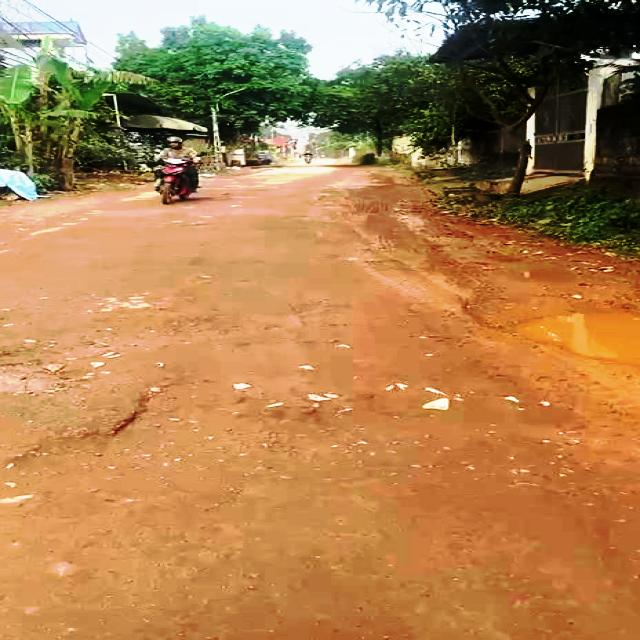pothole: (491, 304, 640, 381)
